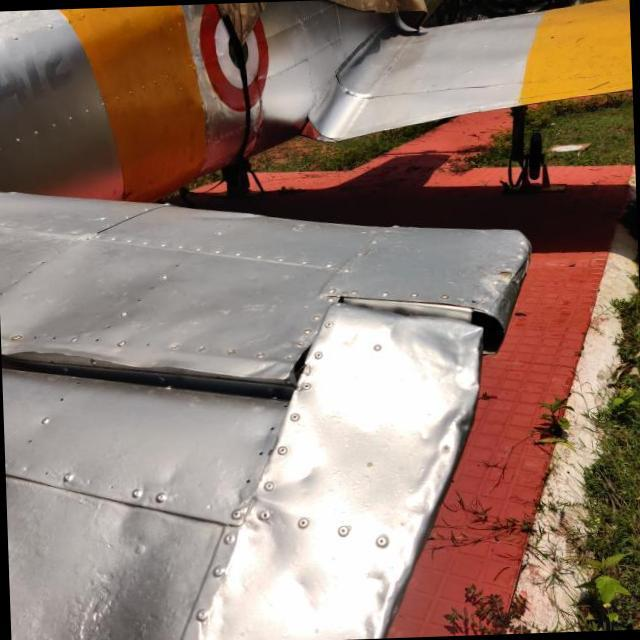Dent: (200, 442, 340, 616), (367, 385, 493, 510), (374, 306, 492, 406), (337, 550, 418, 640)
